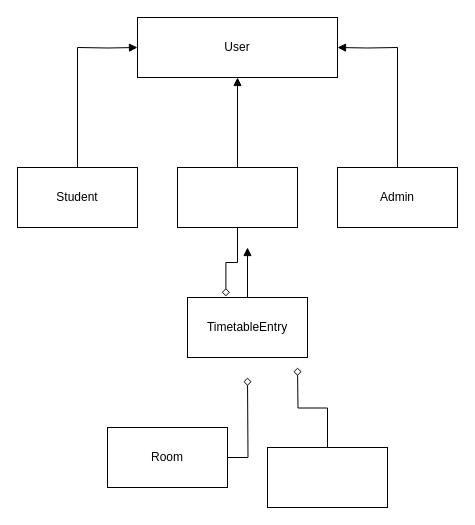
This 475x525 diagram has some shape labels left out. Each missing label, with the centre of its shape:
"Lecturer" belongs at (x=237, y=197).
"Module" belongs at (x=327, y=477).
